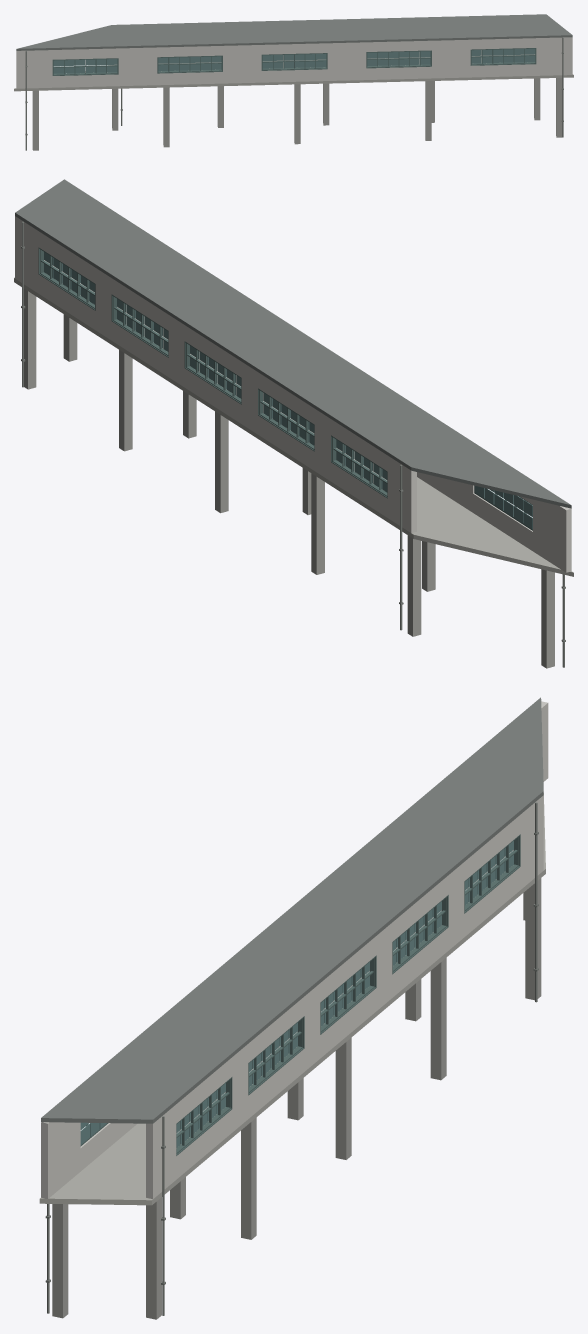
The picture shows the model from 3 angles, top to bottom: view 1: azimuth 30°, elevation 25°; view 2: azimuth 150°, elevation 25°; view 3: azimuth 270°, elevation 25°; orthographic projection. The views are drawn at different scales.
Visible parts, largest first — view 1: bridge__wall, bridge__coping, bridge__glass, bridge__stone, bridge__frame, bridge__slab, bridge__pipe; view 2: bridge__coping, bridge__wall, bridge__stone, bridge__slab, bridge__glass, bridge__frame, bridge__pipe; view 3: bridge__coping, bridge__wall, bridge__stone, bridge__slab, bridge__frame, bridge__glass, bridge__pipe.
Boxes of the visible parts, <box> form: bridge__wall: <box>16,37,572,88</box>; bridge__coping: <box>16,14,572,50</box>; bridge__glass: <box>53,48,535,73</box>; bridge__stone: <box>32,78,562,150</box>; bridge__frame: <box>52,48,536,75</box>; bridge__slab: <box>14,57,573,91</box>; bridge__pipe: <box>25,37,563,150</box>; bridge__coping: <box>15,179,571,508</box>; bridge__wall: <box>15,216,571,572</box>; bridge__stone: <box>24,289,554,668</box>; bridge__slab: <box>14,260,573,576</box>; bridge__glass: <box>44,252,532,529</box>; bridge__frame: <box>38,247,532,530</box>; bridge__pipe: <box>21,221,565,667</box>; bridge__coping: <box>41,697,543,1123</box>; bridge__wall: <box>41,701,548,1199</box>; bridge__stone: <box>52,878,541,1319</box>; bridge__slab: <box>39,793,545,1205</box>; bridge__frame: <box>80,834,520,1155</box>; bridge__glass: <box>80,841,513,1147</box>; bridge__pipe: <box>45,802,538,1315</box>.
Size of the model in its own units: 35.51 by 8 by 17.94.
